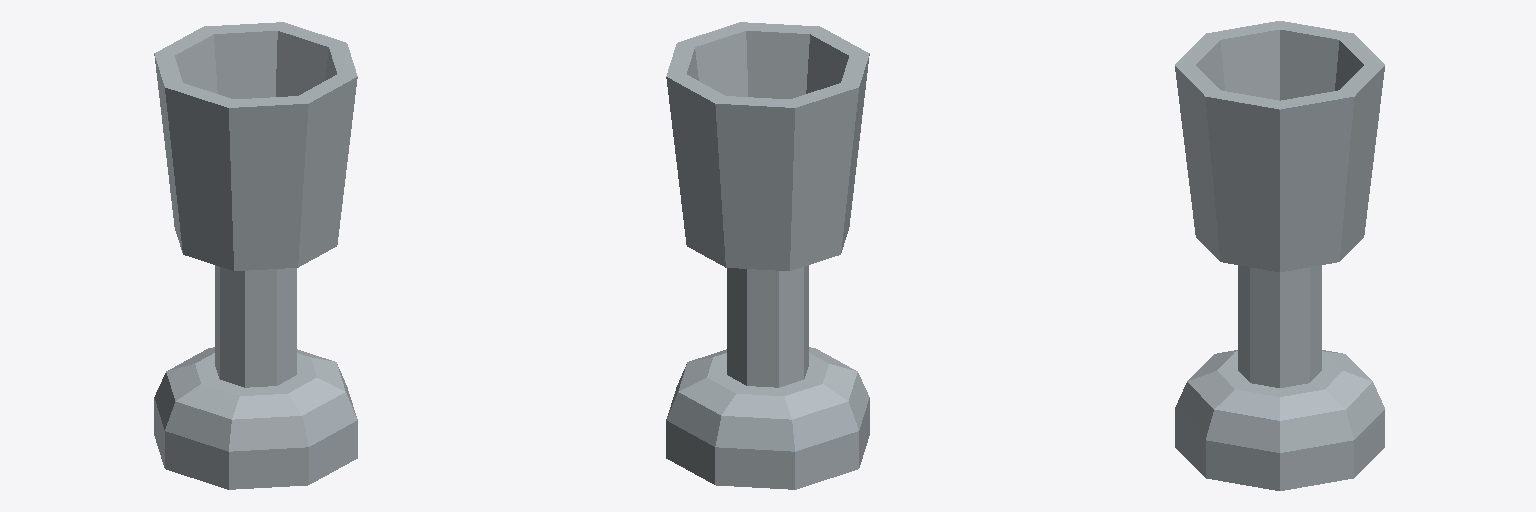
3 views of the same model, side by side, from view 1: azimuth 30°, elevation 25°; view 2: azimuth 150°, elevation 25°; view 3: azimuth 270°, elevation 25° (orthographic).
Parts seen in each view (by area): view 1: Mesh_0035_Mesh_0035Mesh; view 2: Mesh_0035_Mesh_0035Mesh; view 3: Mesh_0035_Mesh_0035Mesh.
Part boxes in pixels (x1,y1,x2,y2): Mesh_0035_Mesh_0035Mesh: (154, 22, 357, 489); Mesh_0035_Mesh_0035Mesh: (666, 22, 869, 489); Mesh_0035_Mesh_0035Mesh: (1175, 21, 1384, 490).
Bounding box in the file's own units: 0.0762 × 0.1524 × 0.0762.
Materials: 1 (1 with a texture image).